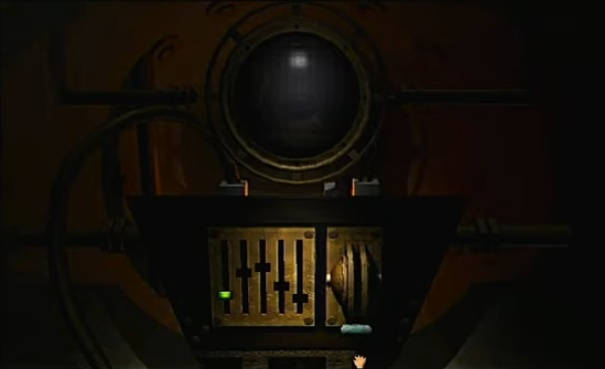Hold: (350, 352, 370, 369)
